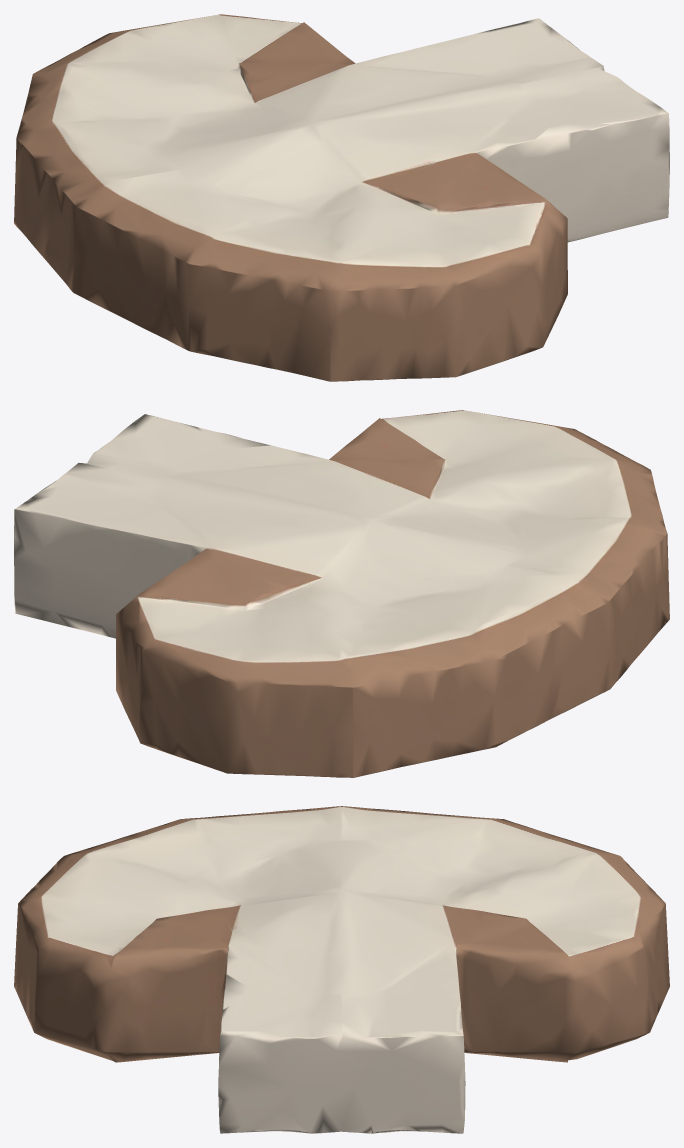
Rendered from mushroom_slice.obj.
3 renders of one model, top to bottom at view 1: azimuth 30°, elevation 25°; view 2: azimuth 150°, elevation 25°; view 3: azimuth 270°, elevation 25°, orthographic. The views are drawn at different scales.
Visible parts, largest first — view 1: meshes[0]; view 2: meshes[0]; view 3: meshes[0].
Part boxes in pixels (x1,y1,x2,y2): meshes[0]: (14,14,669,381); meshes[0]: (14,410,669,777); meshes[0]: (14,806,669,1133).
Bounding box in the file's own units: 0.8598 × 0.2017 × 0.9806.
Materials: 1 (1 with a texture image).
